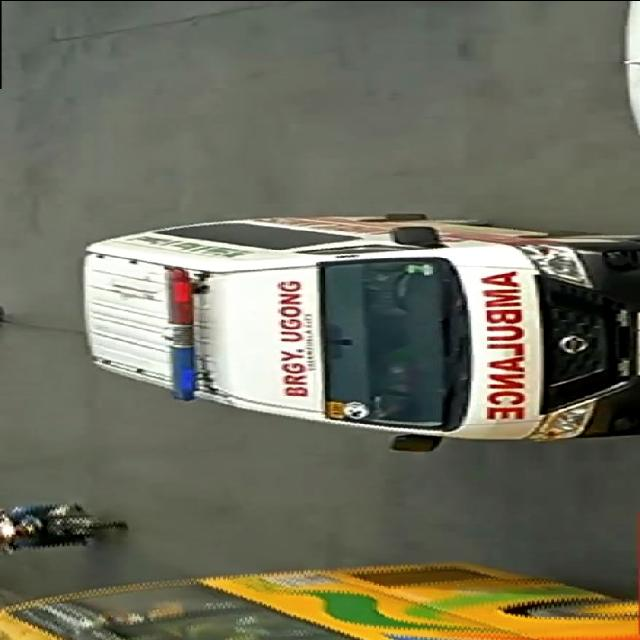emergency: (74, 210, 640, 459)
